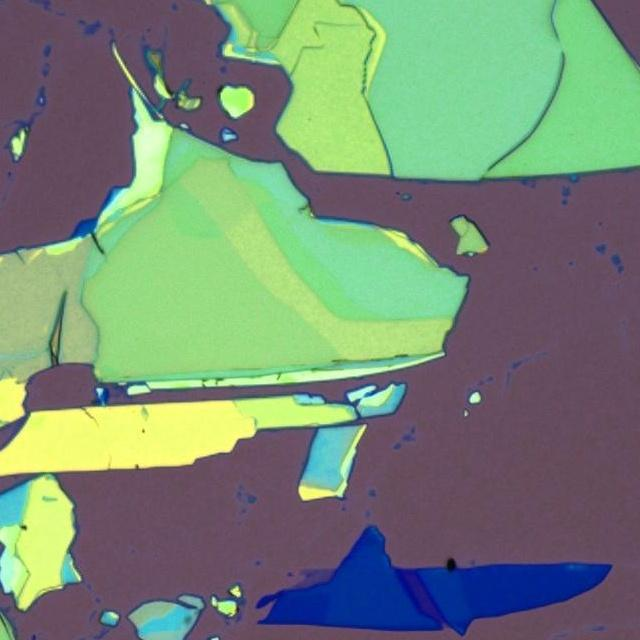monolayer-eWW4: (288, 566, 335, 592)
